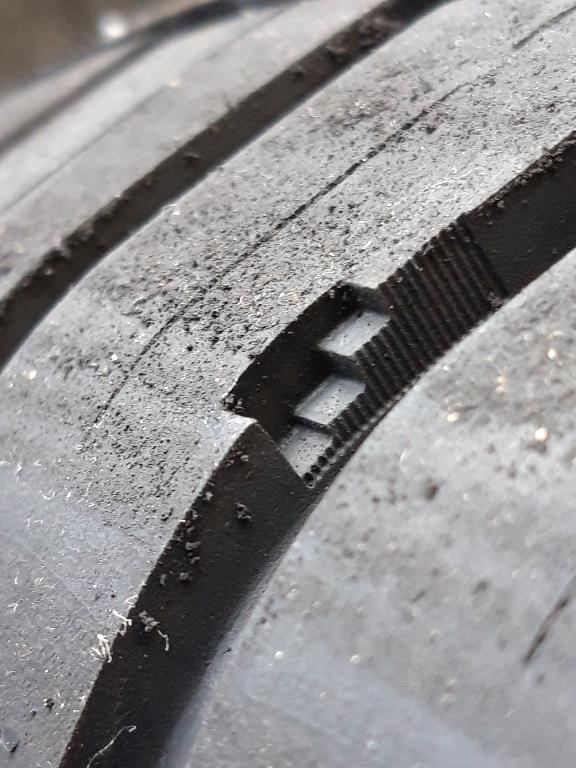temoin:75: (210, 245, 467, 498)
